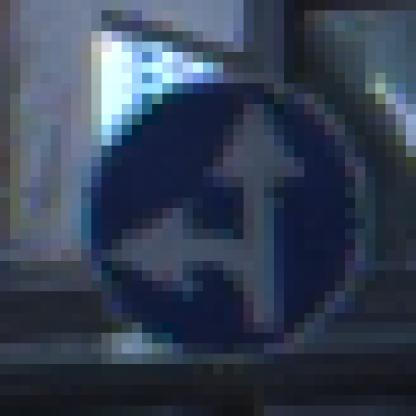Straight or Left: (62, 63, 366, 365)
